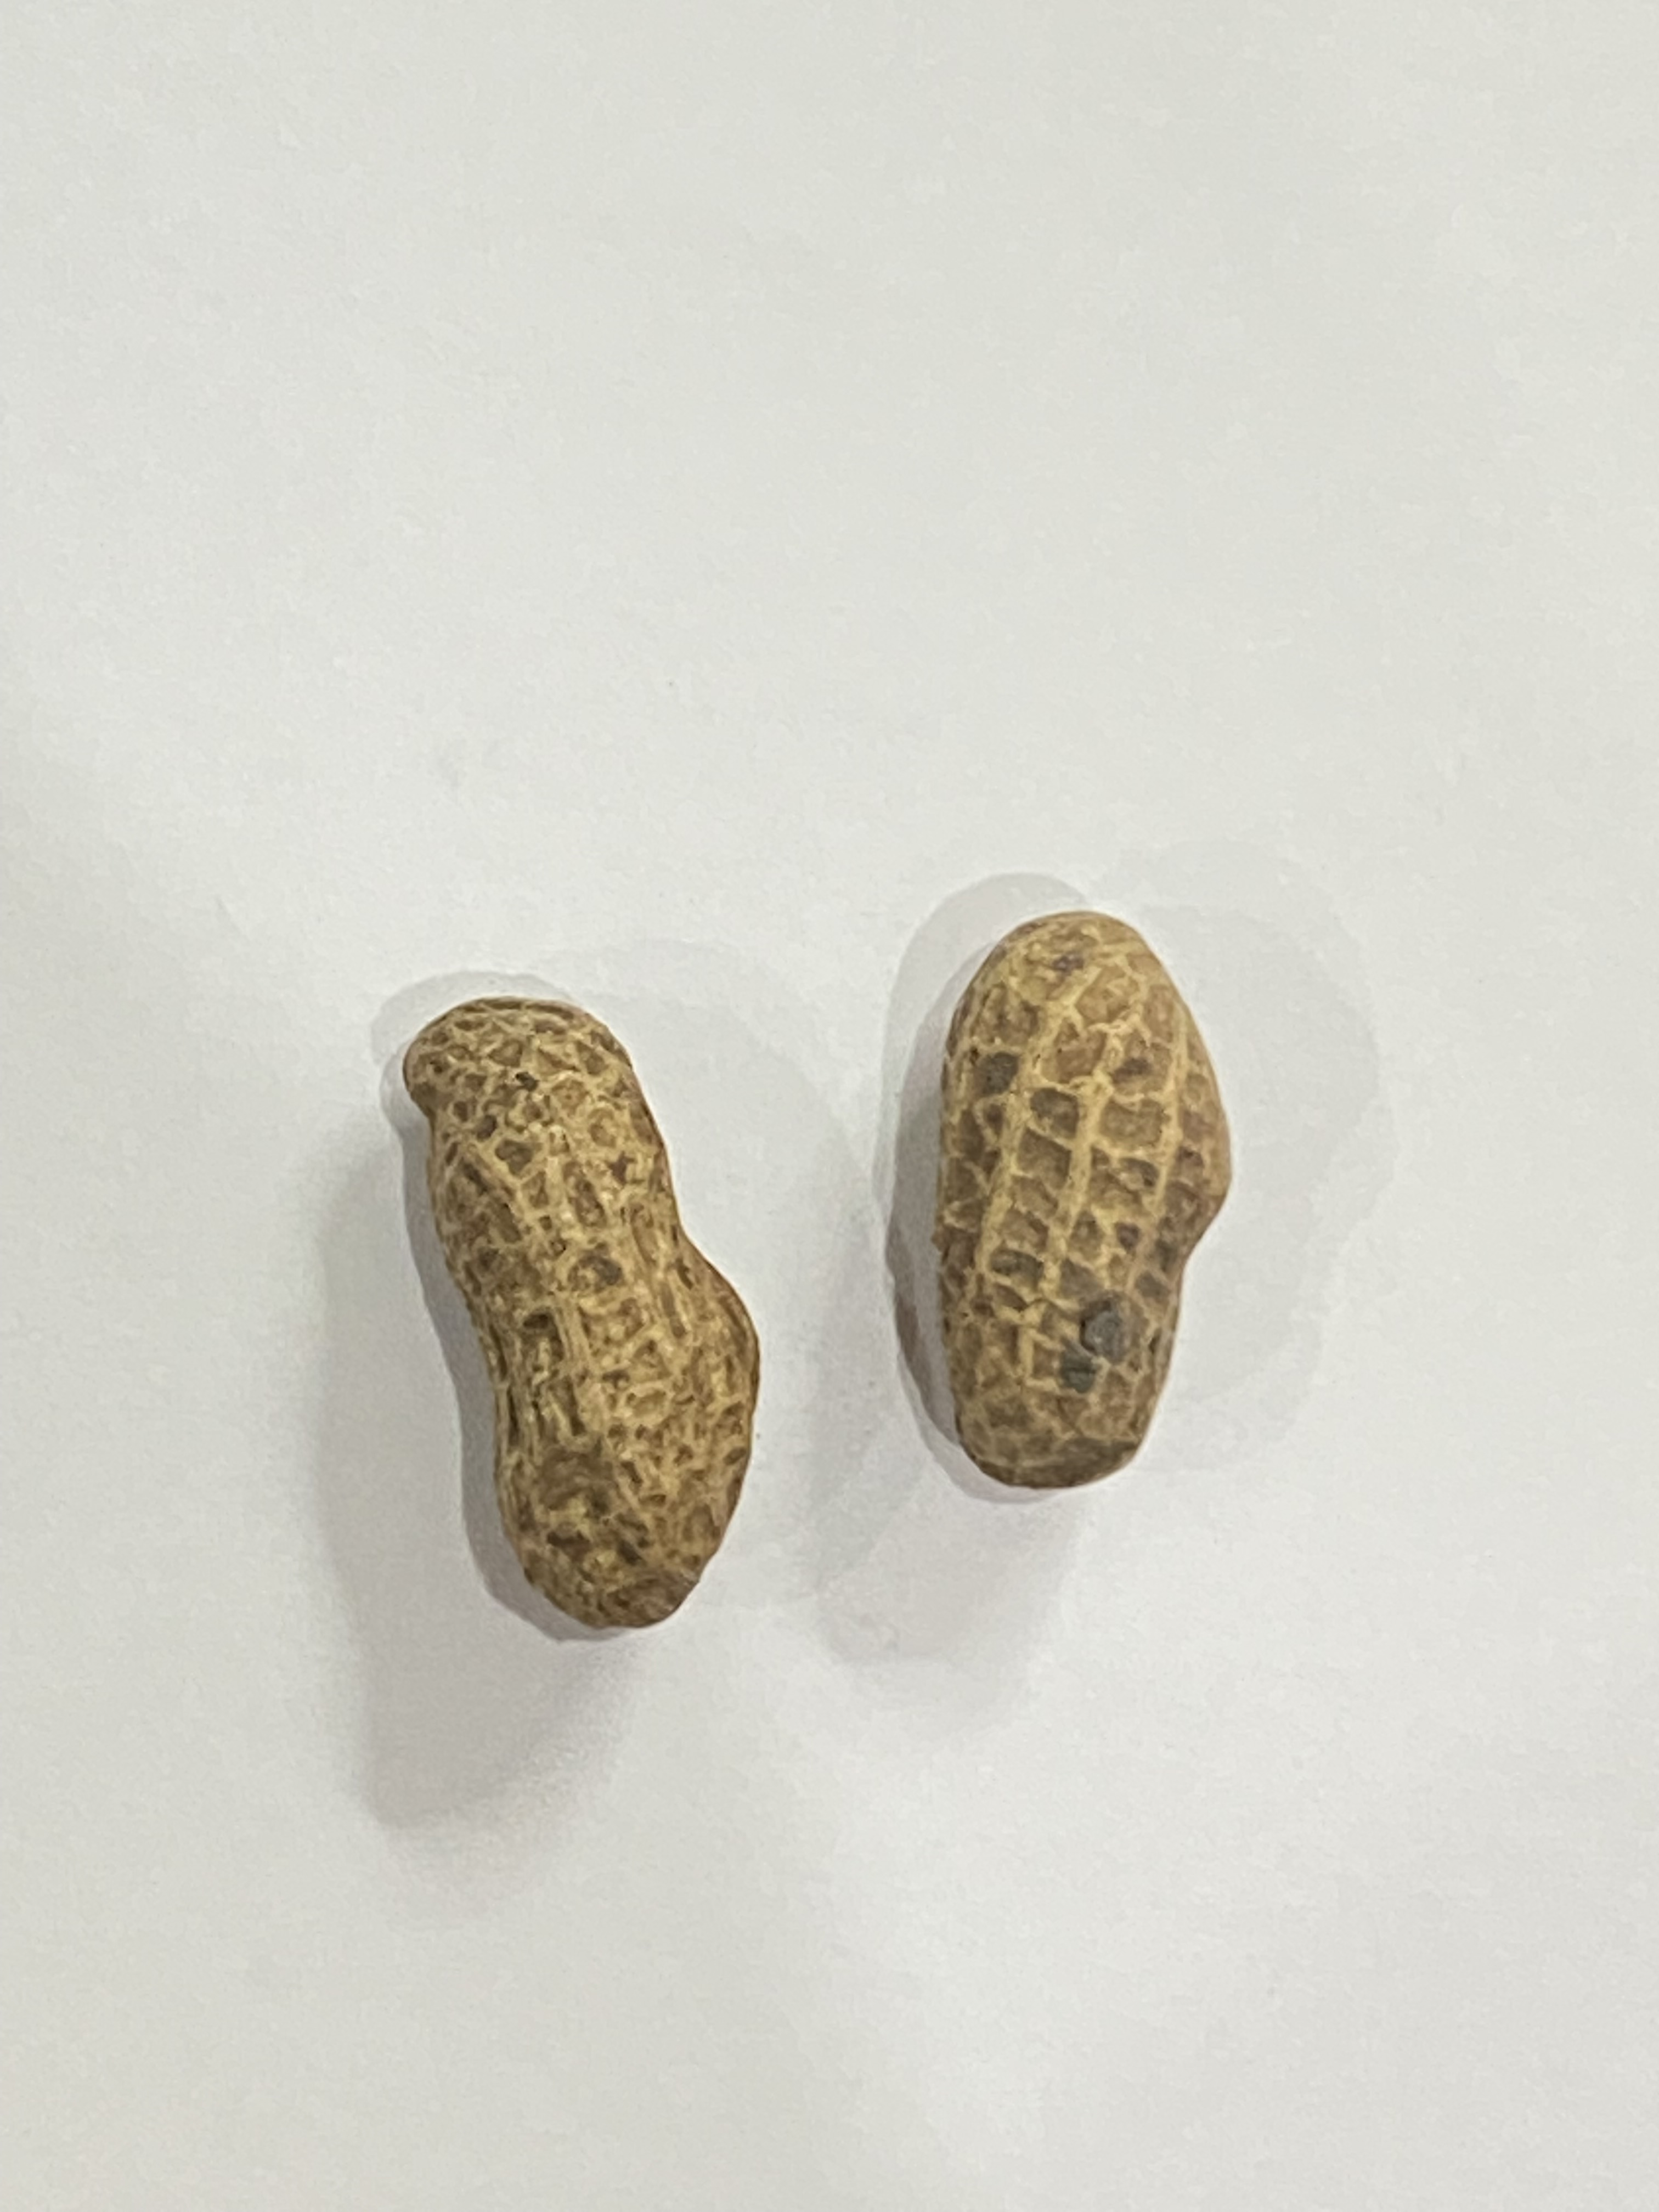kacang2: (399, 958, 758, 1637), (920, 904, 1243, 1496)
